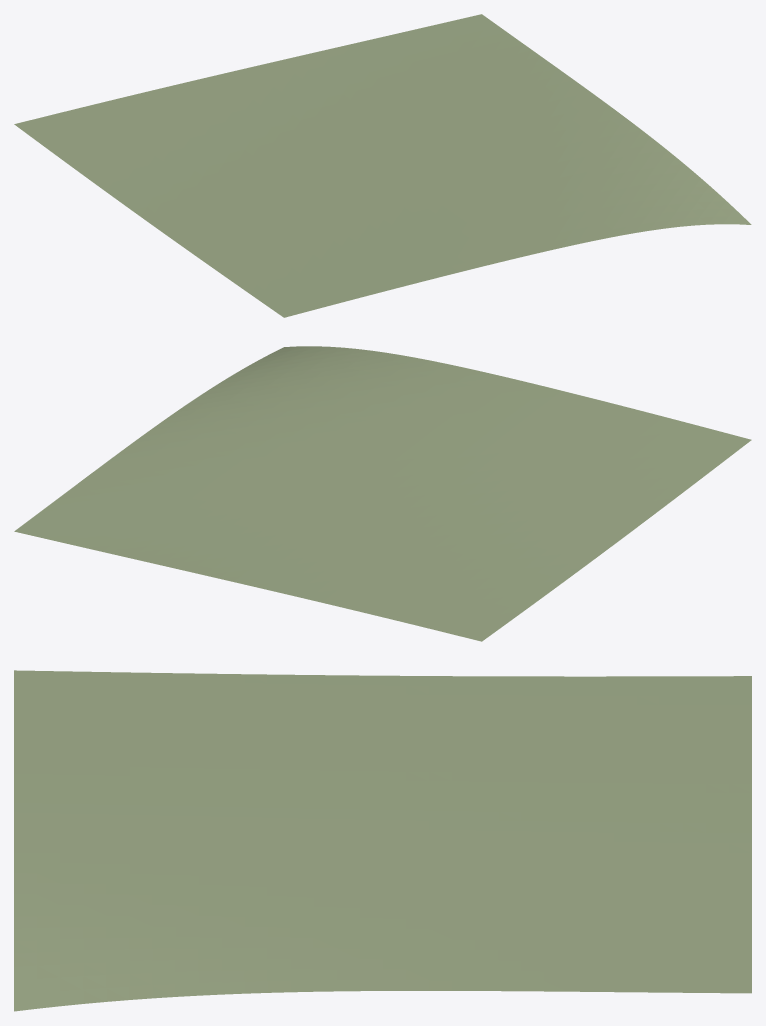
Rendered from expanse-10-16.glb.
3 renders of one model, top to bottom at view 1: azimuth 30°, elevation 25°; view 2: azimuth 150°, elevation 25°; view 3: azimuth 270°, elevation 25°, orthographic. The views are drawn at different scales.
Visible parts, largest first — view 1: expanse-10-16; view 2: expanse-10-16; view 3: expanse-10-16.
Part boxes in pixels (bbox=[...]): expanse-10-16: bbox=[14, 14, 751, 317]; expanse-10-16: bbox=[14, 346, 751, 641]; expanse-10-16: bbox=[14, 670, 751, 1011].
Size of the model in its own units: 256 by 12.67 by 256.
